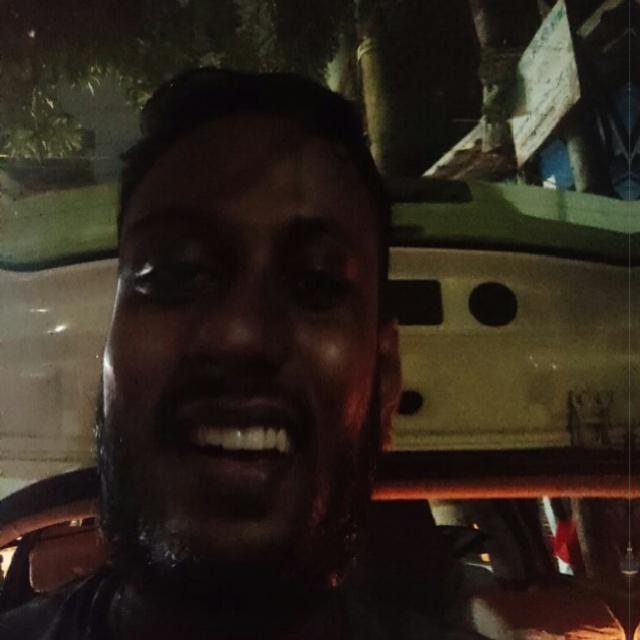Happy: (65, 80, 449, 609)
